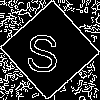S: (25, 25, 61, 73)
